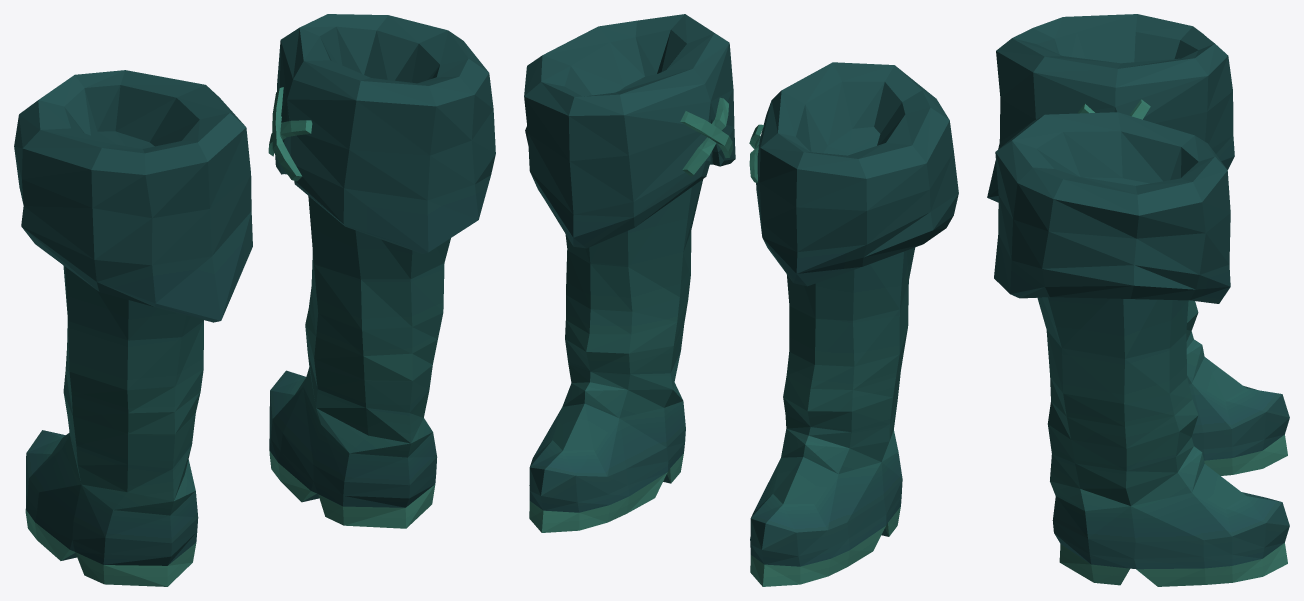
Rendered from CharSkyKid_Feet_TreasureBoots.glb.
3 views of the same model, side by side, from view 1: azimuth 30°, elevation 25°; view 2: azimuth 150°, elevation 25°; view 3: azimuth 270°, elevation 25° (orthographic). The views are drawn at different scales.
Visible parts, largest first — view 1: CharSkyKid_Feet_TreasureBoots; view 2: CharSkyKid_Feet_TreasureBoots; view 3: CharSkyKid_Feet_TreasureBoots.
Part boxes in pixels (x1,y1,x2,y2): CharSkyKid_Feet_TreasureBoots: [14, 14, 495, 586]; CharSkyKid_Feet_TreasureBoots: [524, 14, 958, 586]; CharSkyKid_Feet_TreasureBoots: [987, 14, 1289, 586].
Size of the model in its own units: 3.46 by 3.44 by 2.22.
1 material, 1 textured.
